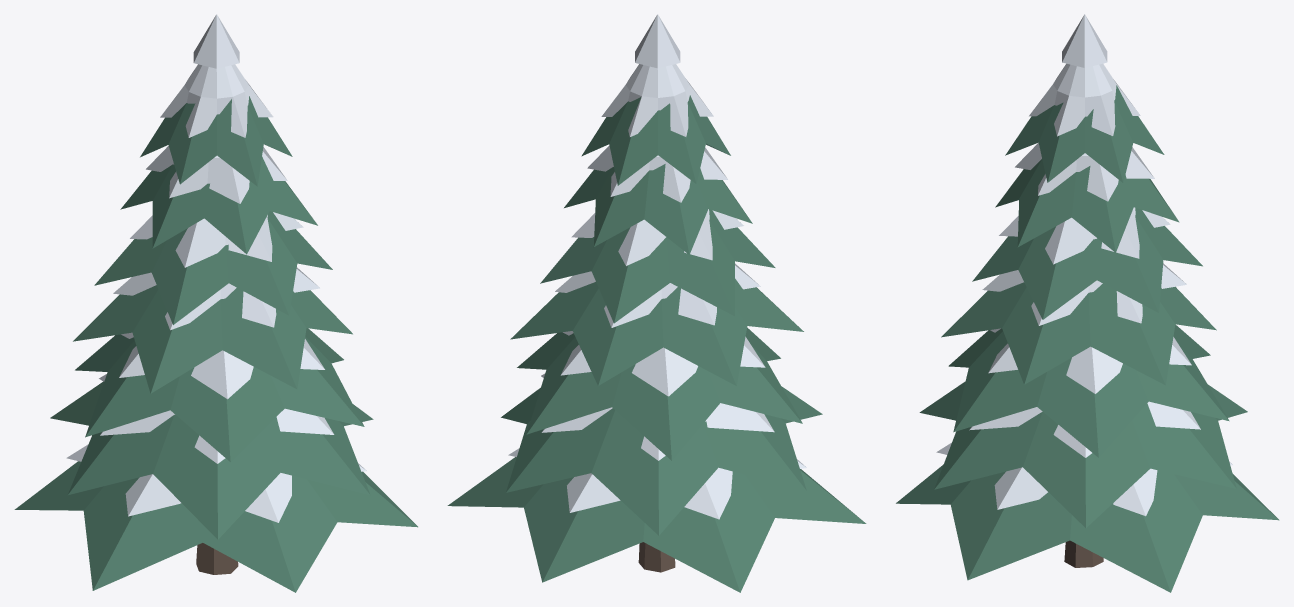
Rendered from TREE_FIR.glb.
The picture shows the model from 3 angles, left to right: view 1: azimuth 30°, elevation 25°; view 2: azimuth 150°, elevation 25°; view 3: azimuth 270°, elevation 25°; orthographic projection.
Parts seen in each view (by area): view 1: TREE_FIR; view 2: TREE_FIR; view 3: TREE_FIR.
Part boxes in pixels (x1=…): TREE_FIR: x1=14, y1=14, x2=417, y2=592; TREE_FIR: x1=447, y1=14, x2=866, y2=592; TREE_FIR: x1=896, y1=14, x2=1279, y2=592.
Bounding box in the file's own units: 3.22 × 5.07 × 3.24.
